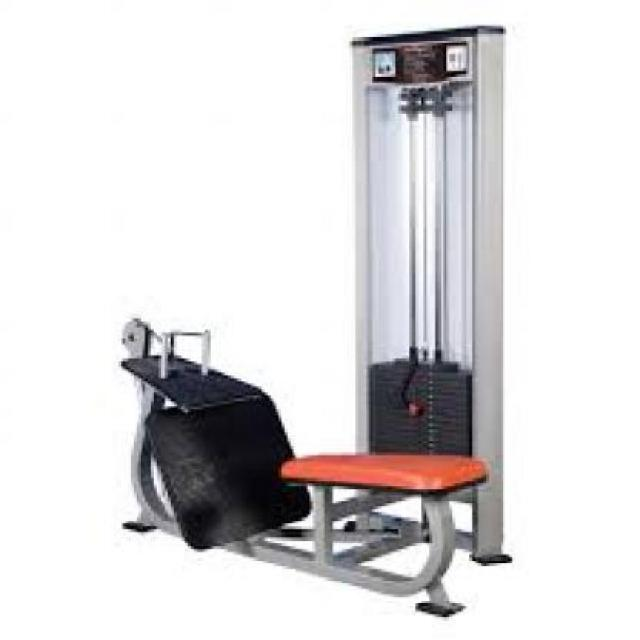Seated Cable Rows: (105, 21, 523, 622)
